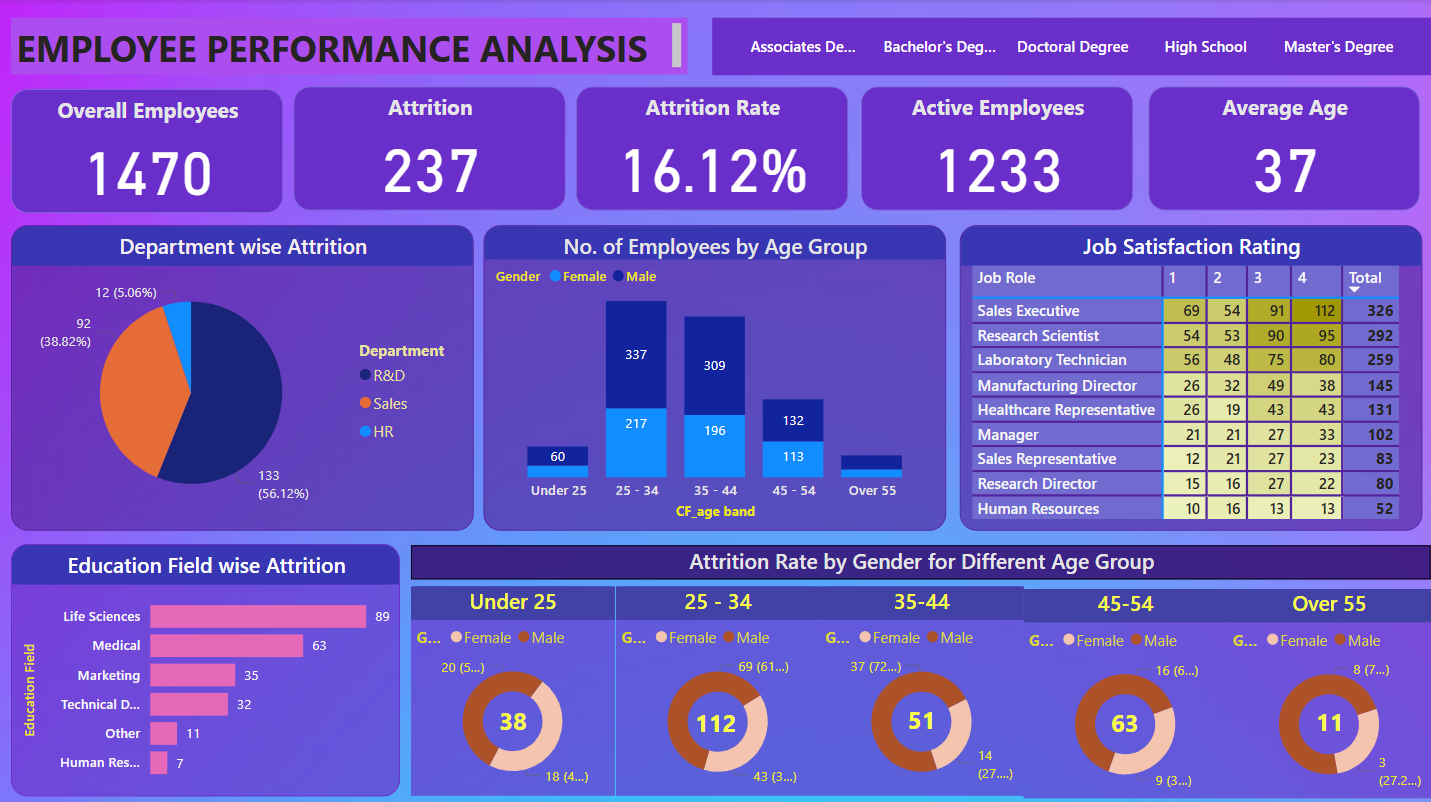

Layout of this report page (visuals, bound fields, positions):
{"tool":"powerbi","page":{"name":"Page 1","canvas":[1280,720],"ordinal":0},"visuals":[{"type":"card","title":"Overall Employees","fields":{"Values":["Sum(HR data.Employee Count)"]},"box":[13.3,80,242,110],"z":0},{"type":"card","title":"Attrition","fields":{"Values":["Sum(HR data.Attrition Count)"]},"box":[265,78.3,242,110],"z":1000},{"type":"card","title":"Attrition Rate","fields":{"Values":["HR data.Attrition_Count"]},"box":[516.7,78.3,242,110],"z":2000},{"type":"card","title":"Active Employees","fields":{"Values":["HR data.Active_Employees"]},"box":[770,78.3,242,110],"z":3000},{"type":"card","title":"Average Age ","fields":{"Values":["Avg(HR data.Age)"]},"box":[1026.7,78.3,241.7,110],"z":4000},{"type":"pieChart","title":"Department wise Attrition","fields":{"Category":["HR data.Department"],"Y":["Sum(HR data.Attrition Count)"]},"box":[13.3,201.7,412,271.7],"z":5000},{"type":"columnChart","title":"No. of Employees by Age Group","fields":{"Category":["HR data.CF_age band"],"Y":["Sum(HR data.Employee Count)"],"Series":["HR data.Gender"]},"box":[433.7,201.2,411.6,272.1],"z":6000},{"type":"pivotTable","title":"Job Satisfaction Rating","fields":{"Rows":["HR data.Job Role"],"Columns":["HR data.Job Satisfaction"],"Values":["Sum(HR data.Employee Count)"]},"box":[858.3,201.7,412,271.7],"z":7000},{"type":"barChart","title":"Education Field wise Attrition","fields":{"Category":["HR data.Education Field"],"Y":["Sum(HR data.Attrition Count)"]},"box":[13.3,485,346.7,225],"z":8000},{"type":"donutChart","title":"Under 25","fields":{"Category":["HR data.Gender"],"Y":["Sum(HR data.Attrition Count)"],"Series":["HR data.CF_age band"]},"box":[370,523.3,181.7,186],"z":9000},{"type":"textbox","title":"Attrition Rate by Gender for Different Age Group ","box":[370,486.7,908.3,30],"z":10000},{"type":"donutChart","title":"25 - 34","fields":{"Category":["HR data.Gender"],"Y":["Sum(HR data.Attrition Count)"],"Series":["HR data.CF_age band"]},"box":[551.7,523.3,181.7,186.7],"z":11000},{"type":"donutChart","title":"35-44","fields":{"Category":["HR data.Gender"],"Y":["Sum(HR data.Attrition Count)"],"Series":["HR data.CF_age band"]},"box":[733.3,523.3,181.7,186.7],"z":12000},{"type":"donutChart","title":"45-54","fields":{"Category":["HR data.Gender"],"Y":["Sum(HR data.Attrition Count)"],"Series":["HR data.CF_age band"]},"box":[915,525,181.7,186.7],"z":13000},{"type":"donutChart","title":"Over 55","fields":{"Category":["HR data.Gender"],"Y":["Sum(HR data.Attrition Count)"],"Series":["HR data.CF_age band"]},"box":[1096.7,525,181.7,186.7],"z":14000},{"type":"card","fields":{"Values":["Sum(HR data.Attrition Count)"]},"box":[443.3,630,35,28.3],"z":15000},{"type":"card","fields":{"Values":["Sum(HR data.Attrition Count)"]},"box":[615,628.3,53.3,36.7],"z":16000},{"type":"card","fields":{"Values":["Sum(HR data.Attrition Count)"]},"box":[796.7,613.3,55,60],"z":17000},{"type":"card","fields":{"Values":["Sum(HR data.Attrition Count)"]},"box":[983.3,616.7,45,58.3],"z":18000},{"type":"card","fields":{"Values":["Sum(HR data.Attrition Count)"]},"box":[1161.7,626.7,51.7,38.3],"z":19000},{"type":"slicer","fields":{"Values":["HR data.Education"]},"box":[638.3,16.7,640,51],"z":20000},{"type":"textbox","box":[13.3,16.9,602,50.7],"z":21000}]}

Visuals, with their boxes in screenshot pixels (x1, y1, x2, y2), scaled from the page's 1280x720 canvas onto the 1431x802 screenshot:
"Overall Employees" card: [15, 89, 285, 212]
"Attrition" card: [296, 87, 567, 210]
"Attrition Rate" card: [578, 87, 848, 210]
"Active Employees" card: [861, 87, 1131, 210]
"Average Age " card: [1148, 87, 1418, 210]
"Department wise Attrition" pieChart: [15, 225, 475, 527]
"No. of Employees by Age Group" columnChart: [485, 224, 945, 527]
"Job Satisfaction Rating" pivotTable: [960, 225, 1420, 527]
"Education Field wise Attrition" barChart: [15, 540, 402, 791]
"Under 25" donutChart: [414, 583, 617, 790]
"Attrition Rate by Gender for Different Age Group " textbox: [414, 542, 1429, 576]
"25 - 34" donutChart: [617, 583, 820, 791]
"35-44" donutChart: [820, 583, 1023, 791]
"45-54" donutChart: [1023, 585, 1226, 793]
"Over 55" donutChart: [1226, 585, 1429, 793]
card - Sum(HR data.Attrition Count): [496, 702, 535, 733]
card - Sum(HR data.Attrition Count): [688, 700, 747, 741]
card - Sum(HR data.Attrition Count): [891, 683, 952, 750]
card - Sum(HR data.Attrition Count): [1099, 687, 1150, 752]
card - Sum(HR data.Attrition Count): [1299, 698, 1357, 741]
slicer - HR data.Education: [714, 19, 1429, 75]
textbox: [15, 19, 688, 75]
